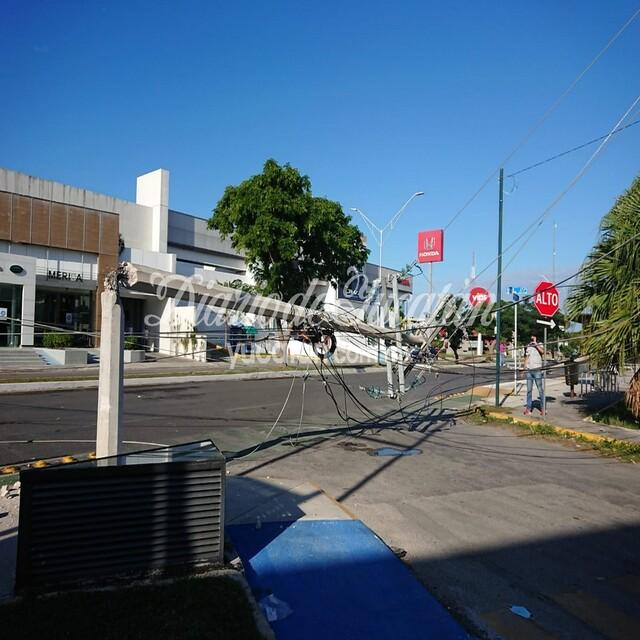Inclined Pole: (93, 258, 459, 458)
